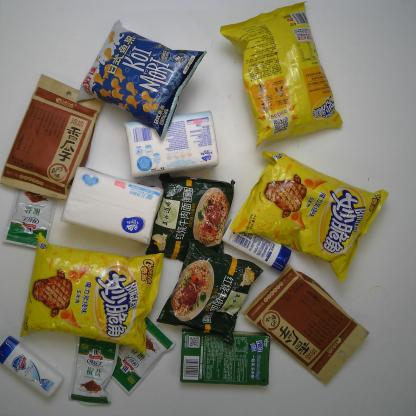Dessert: (176, 322, 278, 397)
Dried Food: (248, 264, 375, 384), (2, 70, 102, 199)
Instant Noodles: (156, 243, 258, 342), (150, 174, 238, 275)
Personal Hygiene: (1, 333, 74, 403), (224, 216, 298, 274)
Puffed Food: (228, 140, 388, 290), (218, 0, 357, 151), (19, 237, 158, 354), (77, 18, 208, 136)
Seasoner: (113, 313, 170, 397), (68, 334, 120, 408), (5, 186, 56, 250)
Tissue: (59, 159, 164, 250), (120, 112, 228, 178)
